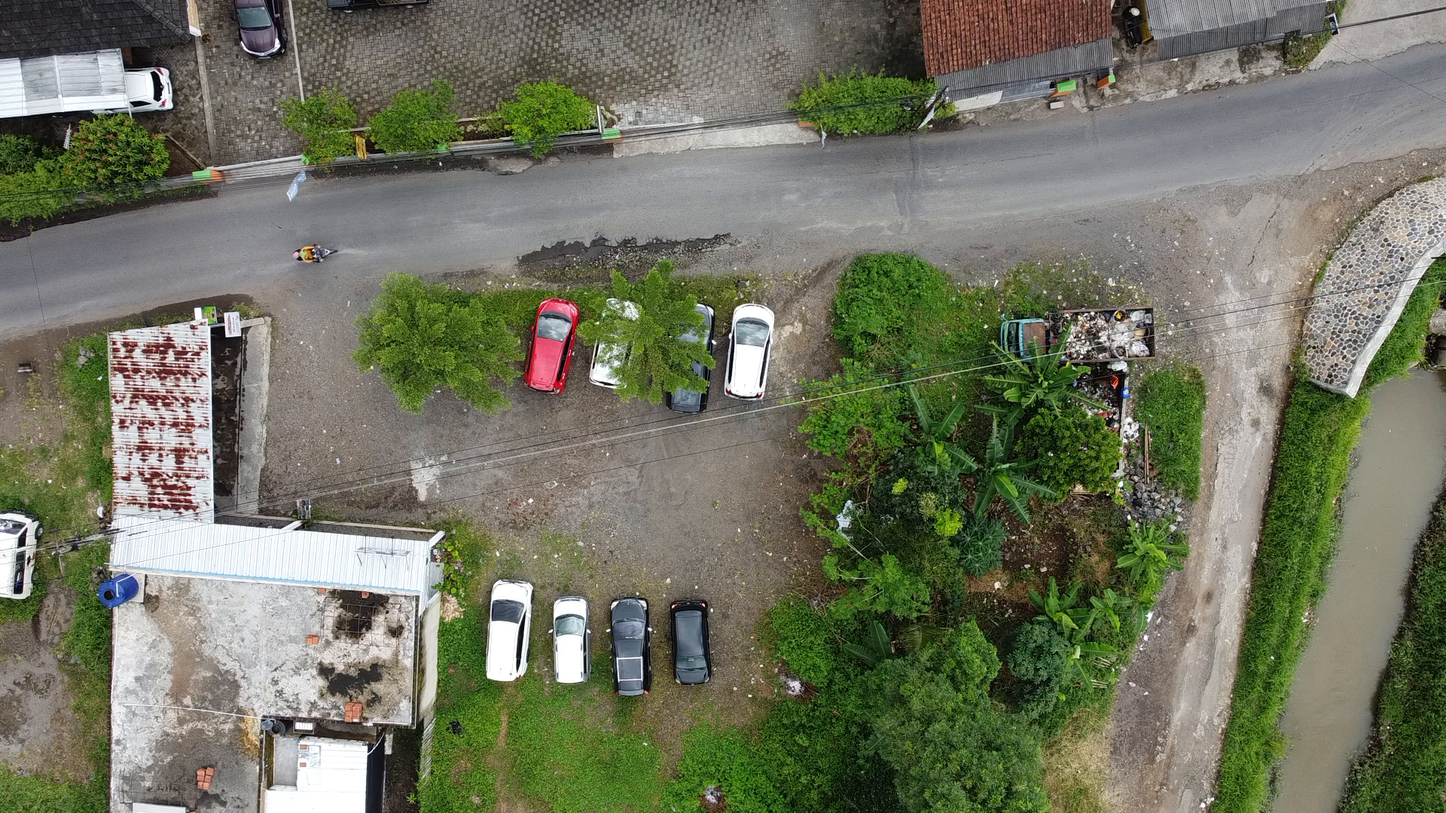mobil: (1338, 259, 1442, 316), (1222, 273, 1318, 321), (716, 328, 810, 377), (732, 93, 822, 142), (1006, 109, 1103, 154), (453, 20, 541, 69), (1272, 32, 1359, 80), (60, 402, 166, 441), (1184, 39, 1265, 90), (684, 1, 770, 48), (1095, 287, 1188, 330), (862, 78, 945, 126), (263, 145, 351, 190), (124, 159, 207, 206), (25, 172, 108, 218), (362, 132, 452, 174), (609, 343, 695, 385), (258, 50, 334, 96), (981, 65, 1058, 110), (619, 113, 703, 154), (516, 116, 593, 158), (992, 301, 1067, 344), (880, 310, 958, 343), (216, 391, 288, 419), (329, 378, 382, 407), (530, 358, 569, 391), (1, 421, 26, 452), (1, 183, 17, 226)
